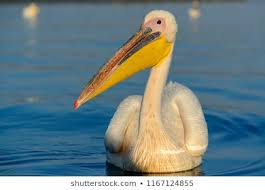pelican: (73, 9, 209, 173)
